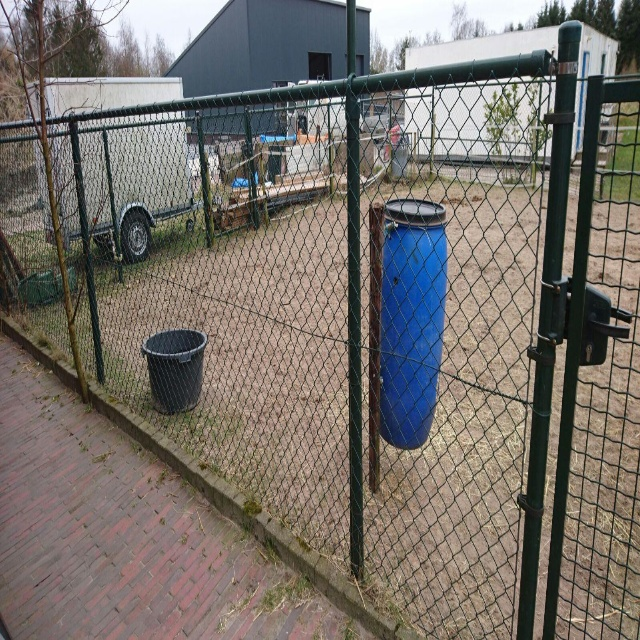obstacle: (53, 154, 640, 541)
